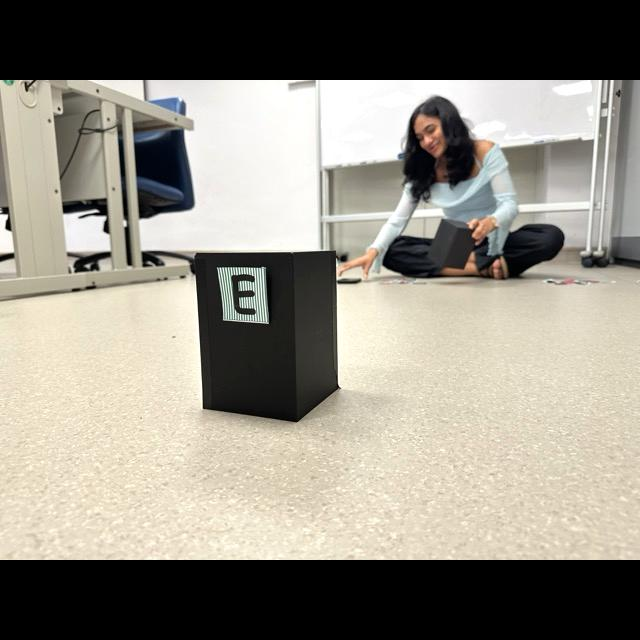E: (231, 274, 256, 314)
